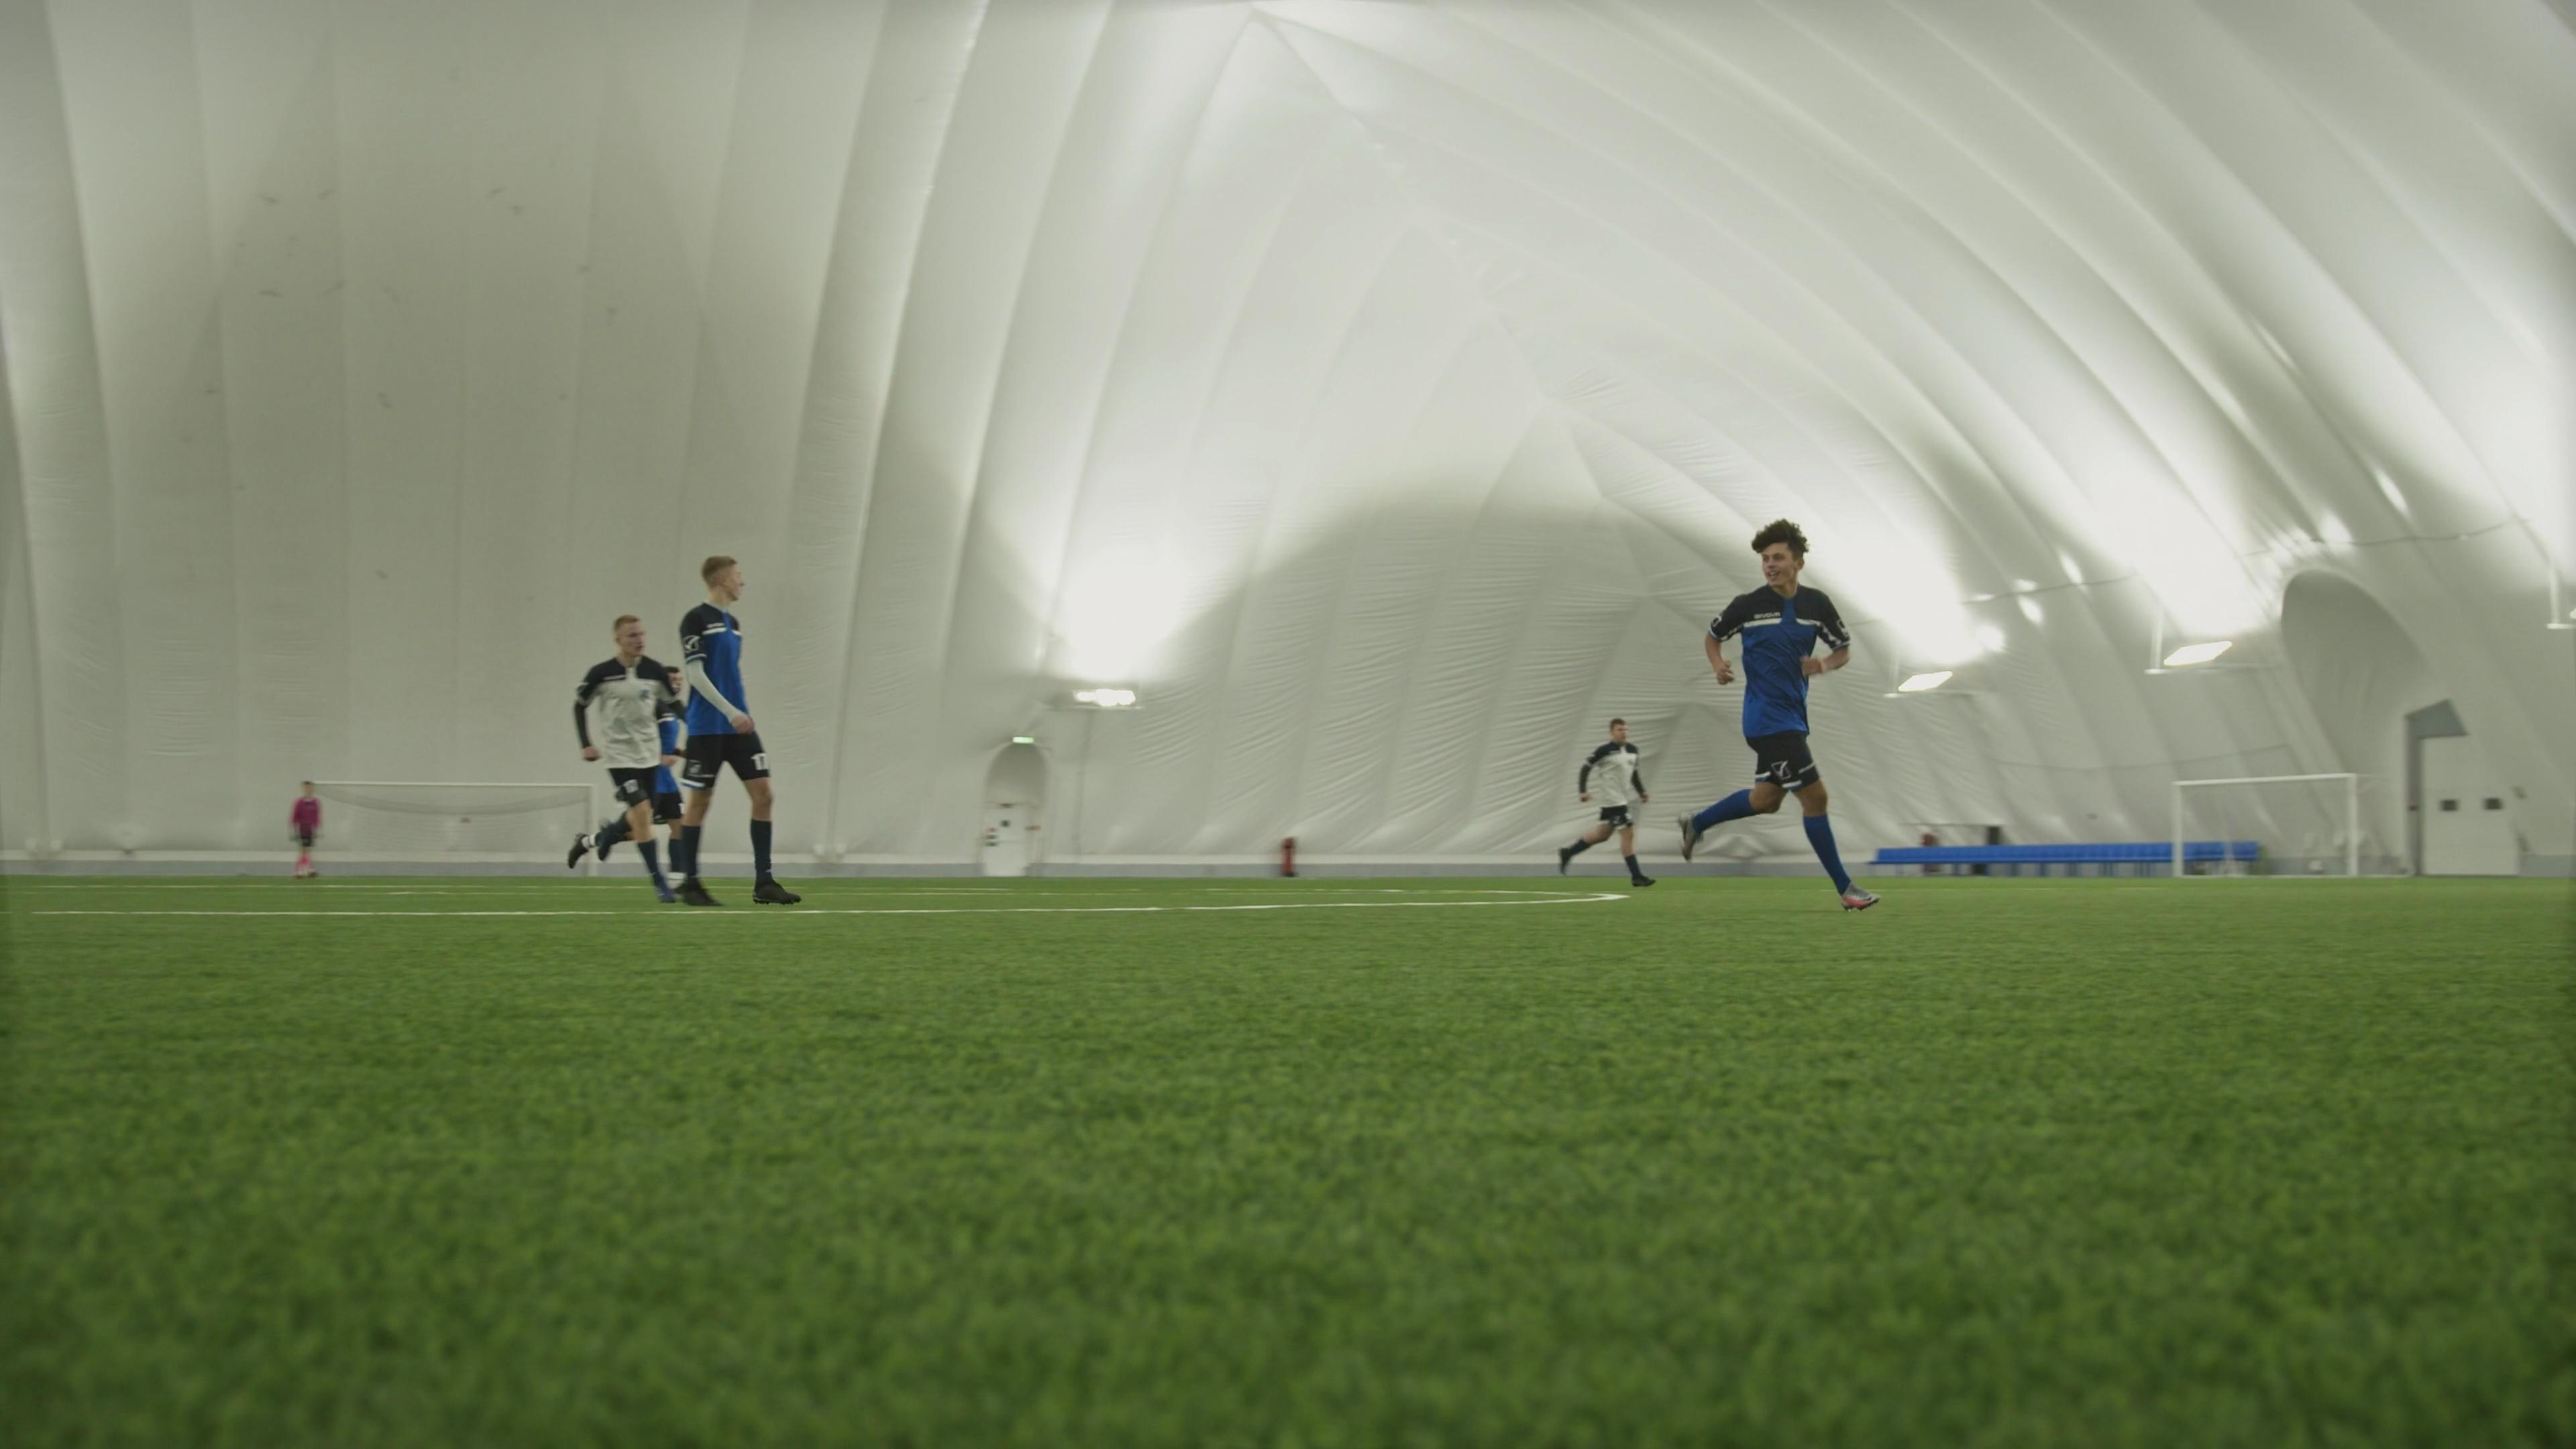team1: (1679, 518, 1875, 913), (660, 554, 800, 909)
team1gk: (288, 777, 324, 883)
team2: (568, 609, 690, 892), (1552, 717, 1658, 892)
